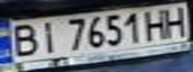1: (121, 10, 145, 44)
5: (103, 11, 127, 47)
6: (84, 12, 109, 50)
7: (63, 16, 87, 52)
B: (3, 20, 42, 57)
H: (139, 7, 172, 40), (160, 3, 190, 38)
I: (33, 18, 63, 54)
